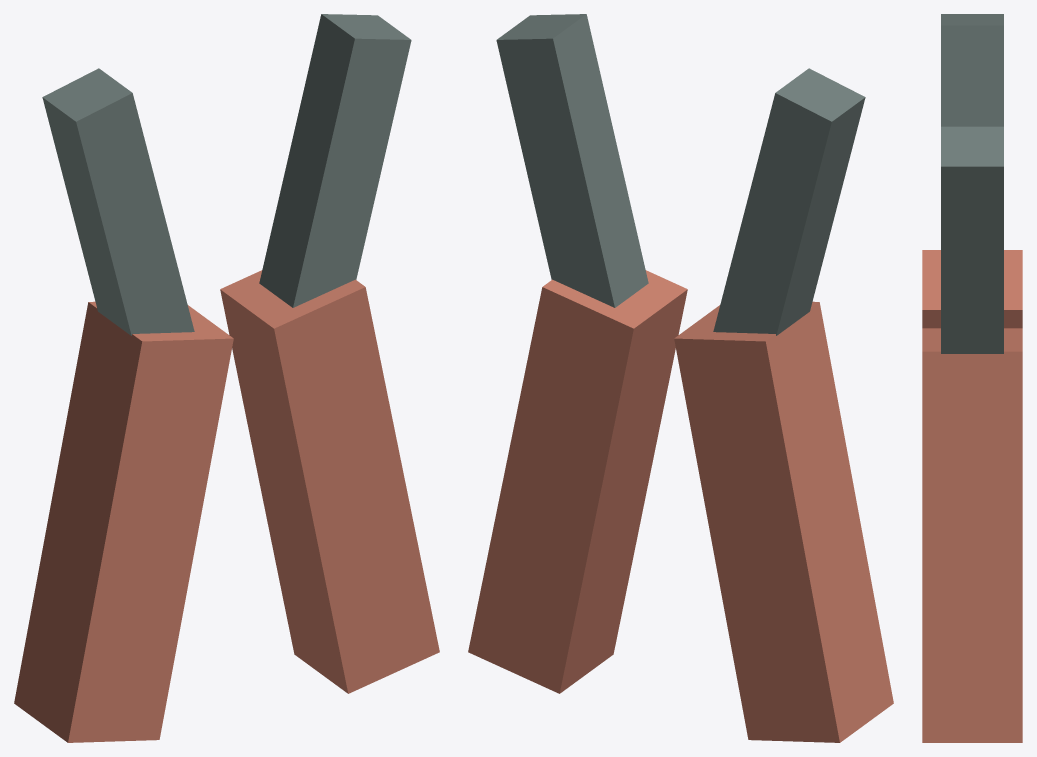
The model's file is cozy-farm-and-homestead-pruning-shears-dc0ff8fd__19404.glb.
3 views of the same model, side by side, from view 1: azimuth 30°, elevation 25°; view 2: azimuth 150°, elevation 25°; view 3: azimuth 270°, elevation 25° (orthographic). The views are drawn at different scales.
Visible parts, largest first — view 1: pruning-shears; view 2: pruning-shears; view 3: pruning-shears.
Boxes of the visible parts, x1=… form: pruning-shears: x1=14, y1=14, x2=439, y2=742; pruning-shears: x1=468, y1=14, x2=893, y2=742; pruning-shears: x1=922, y1=14, x2=1022, y2=742.
Size of the model in its own units: 0.1592 by 0.2633 by 0.04.
